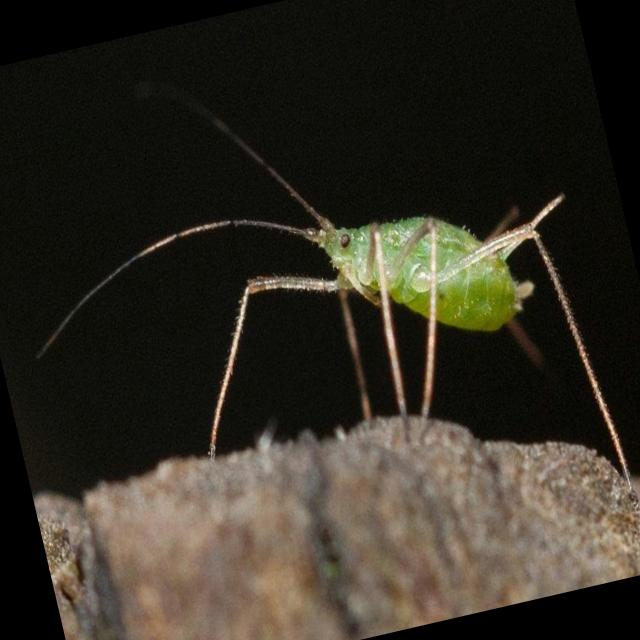Aphids: (46, 108, 623, 532)
